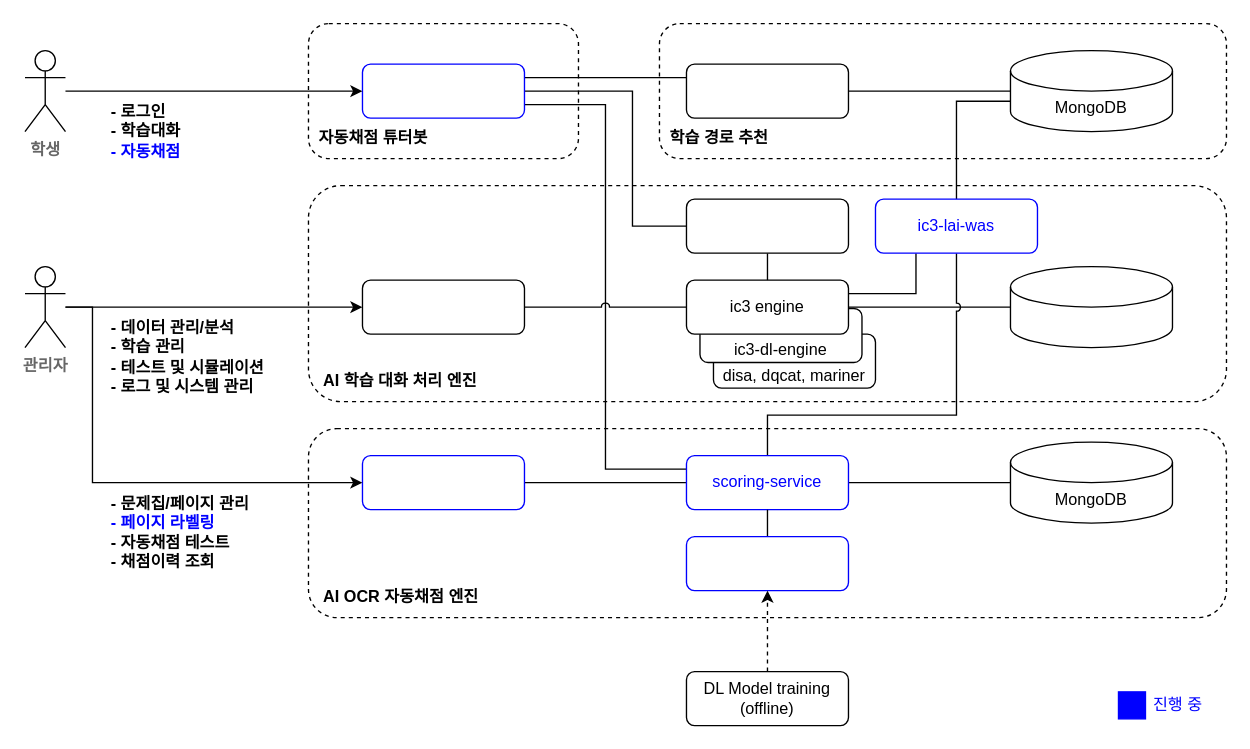
Image size: 1250x749. Some labels were removed from this diagram. The shapes that lost their labels are listed below. From the top down, each one's centre as x and y in pixels, then its label:
At (442,90): "chatting-ui".
At (766,90): "auth-service".
At (766,225): "ic3-restapi-was".
At (442,306): "ic3-admin".
At (1090,306): "MariaDB".
At (442,482): "scoring-admin-ui".
At (766,563): "serving".
